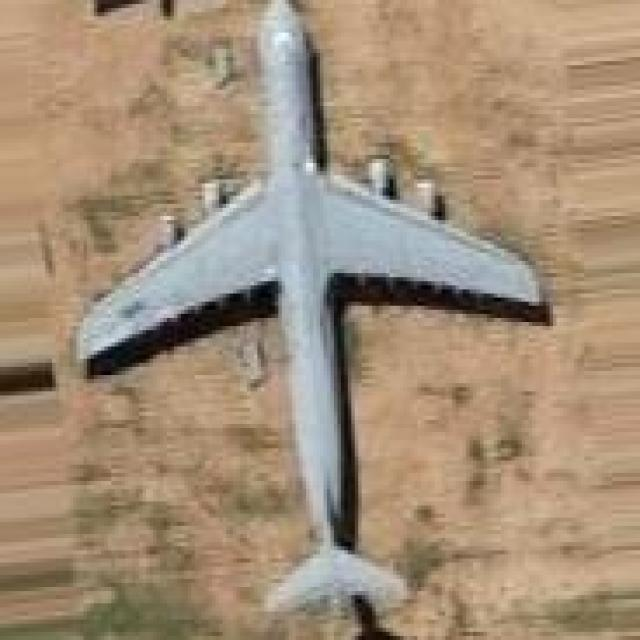C-5_TopDown: (75, 0, 558, 640)
